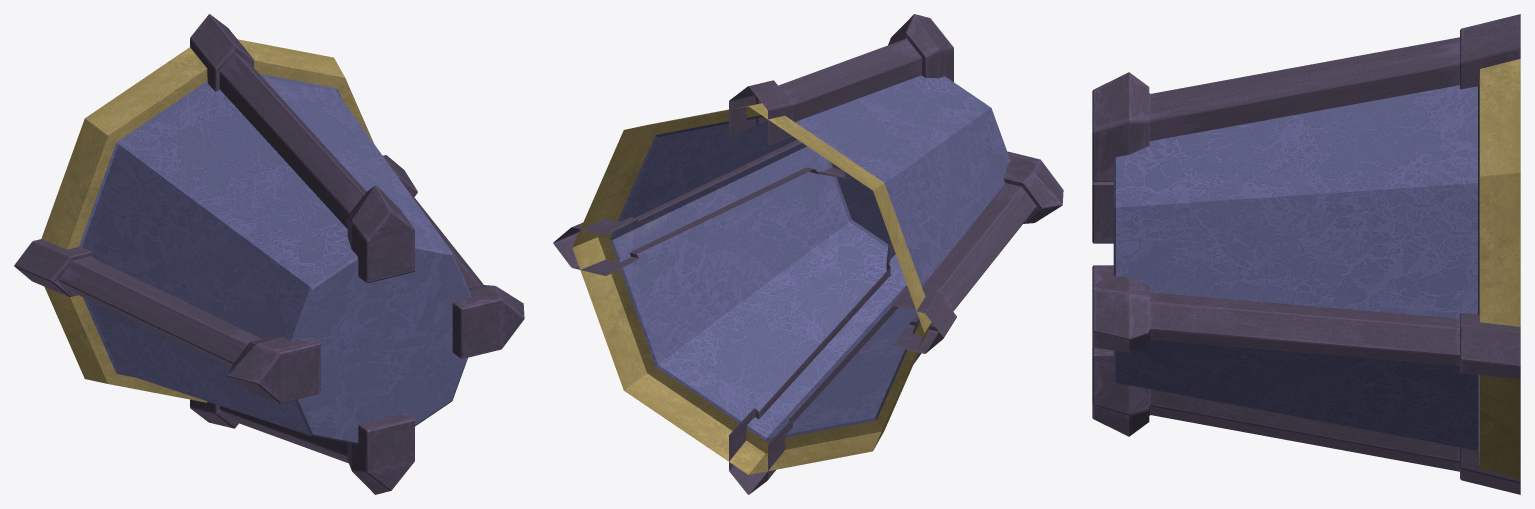
The model's file is Tower.fbx.
3 renders of one model, left to right at view 1: azimuth 30°, elevation 25°; view 2: azimuth 150°, elevation 25°; view 3: azimuth 270°, elevation 25°, orthographic. The views are drawn at different scales.
Parts seen in each view (by area): view 1: Cube.005; view 2: Cube.005; view 3: Cube.005.
Part boxes in pixels (box(x1,y1,x2,y2)): Cube.005: box(14, 14, 524, 494); Cube.005: box(553, 14, 1063, 494); Cube.005: box(1092, 14, 1520, 494).
Bounding box in the file's own units: 439 × 439 × 355.
1 material, 1 textured.
